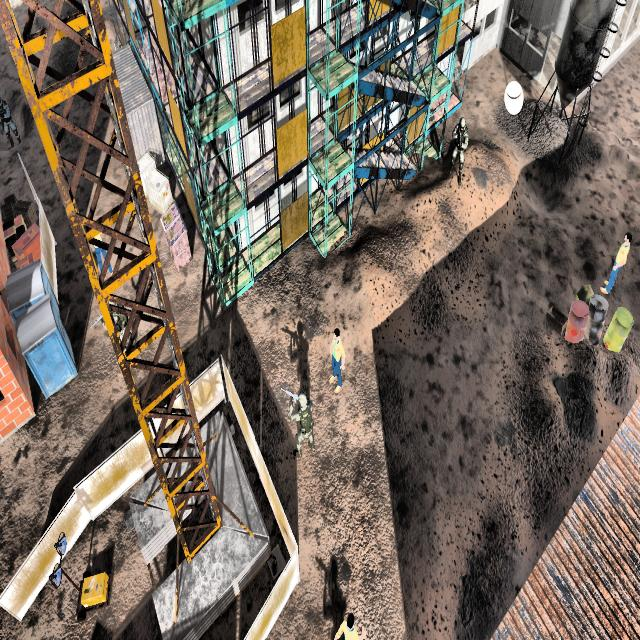bad: (280, 380, 320, 458), (100, 298, 133, 366), (446, 110, 472, 192), (0, 95, 19, 150)
good: (597, 210, 634, 313), (328, 598, 379, 640), (324, 320, 348, 394), (88, 216, 113, 284)
